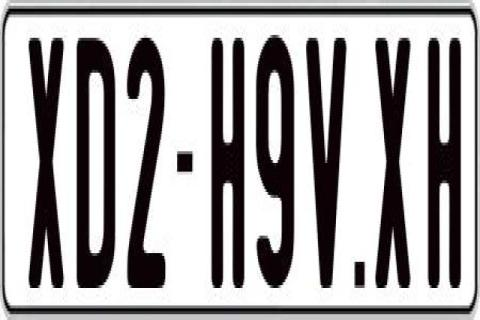0: (126, 35, 170, 297), (256, 26, 300, 282)
D: (76, 29, 118, 279)
H: (426, 35, 460, 291), (212, 38, 244, 288)
V: (306, 29, 348, 279)
X: (372, 35, 410, 288), (28, 32, 63, 294)
